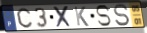3: (34, 7, 49, 28)
C: (16, 7, 34, 29)
K: (73, 6, 90, 27)
S: (112, 4, 131, 27), (95, 4, 112, 28)
X: (53, 5, 73, 29)
